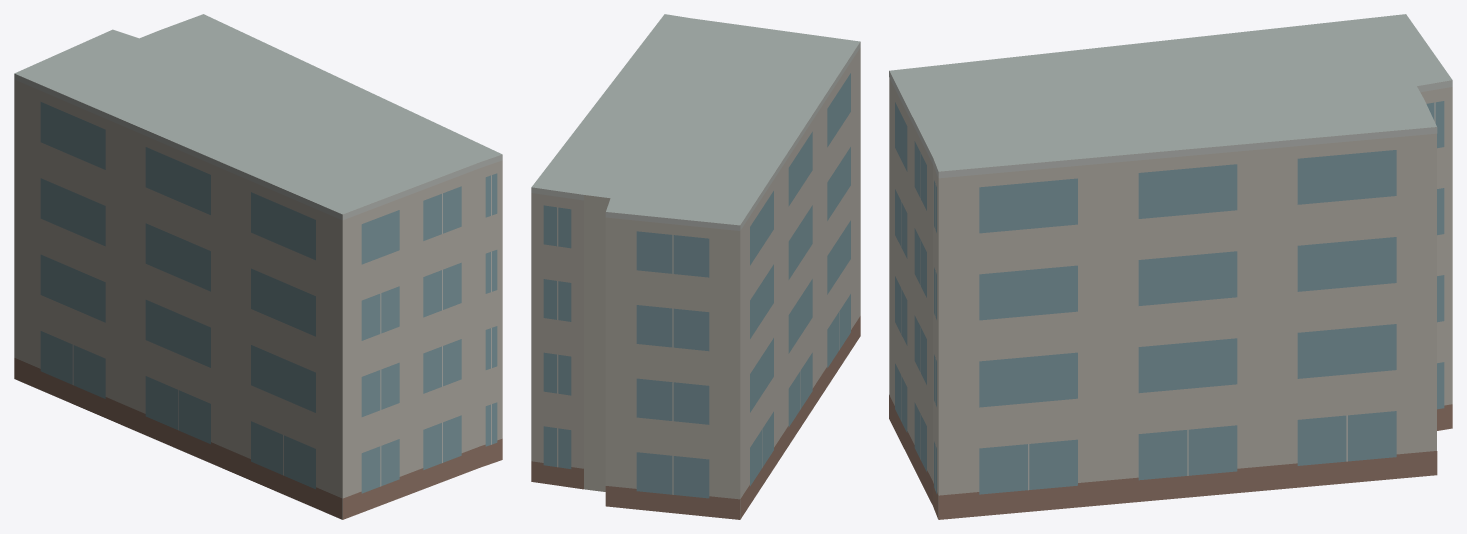
File: survey-upis-32571408.glb
3 views of the same model, side by side, from view 1: azimuth 30°, elevation 25°; view 2: azimuth 150°, elevation 25°; view 3: azimuth 270°, elevation 25° (orthographic). The views are drawn at different scales.
Parts seen in each view (by area): view 1: survey-upis-32571408.tmp; view 2: survey-upis-32571408.tmp; view 3: survey-upis-32571408.tmp.
Part boxes in pixels (x1,y1,x2,y2): survey-upis-32571408.tmp: (14, 14, 502, 519); survey-upis-32571408.tmp: (531, 14, 860, 519); survey-upis-32571408.tmp: (889, 14, 1452, 519).
Size of the model in its own units: 12.34 by 12.7 by 18.64.
